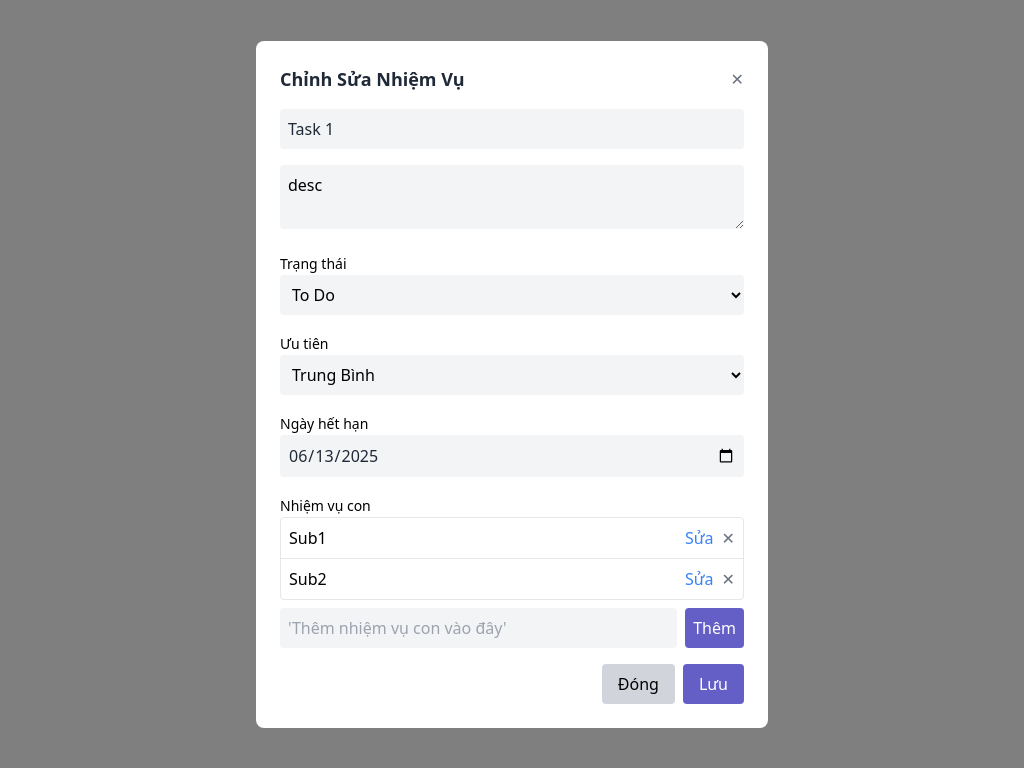
Scenario: EditTaskModal › thêm subtask mới
The image size is (1024, 768).
Type "Sub3" into the field with placeholder "'Thêm nhiệm vụ con vào đây'". click: (479, 628)
box: [280,608,677,648]
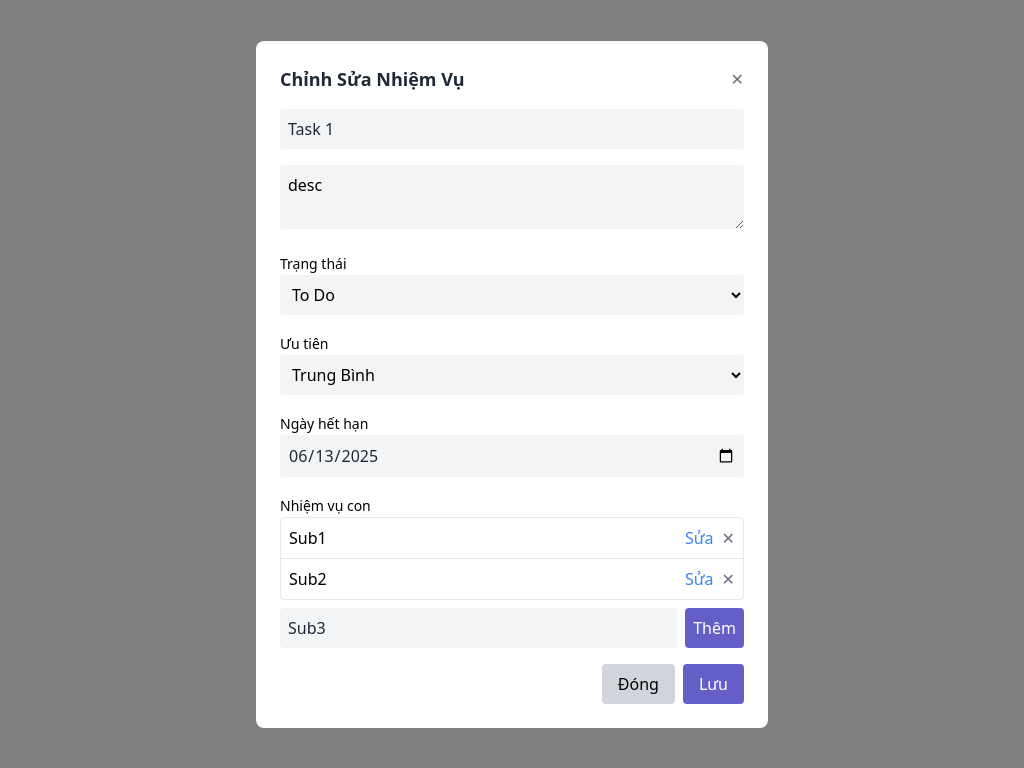
Click the button "Thêm". click: (715, 628)
box: [685,608,744,648]
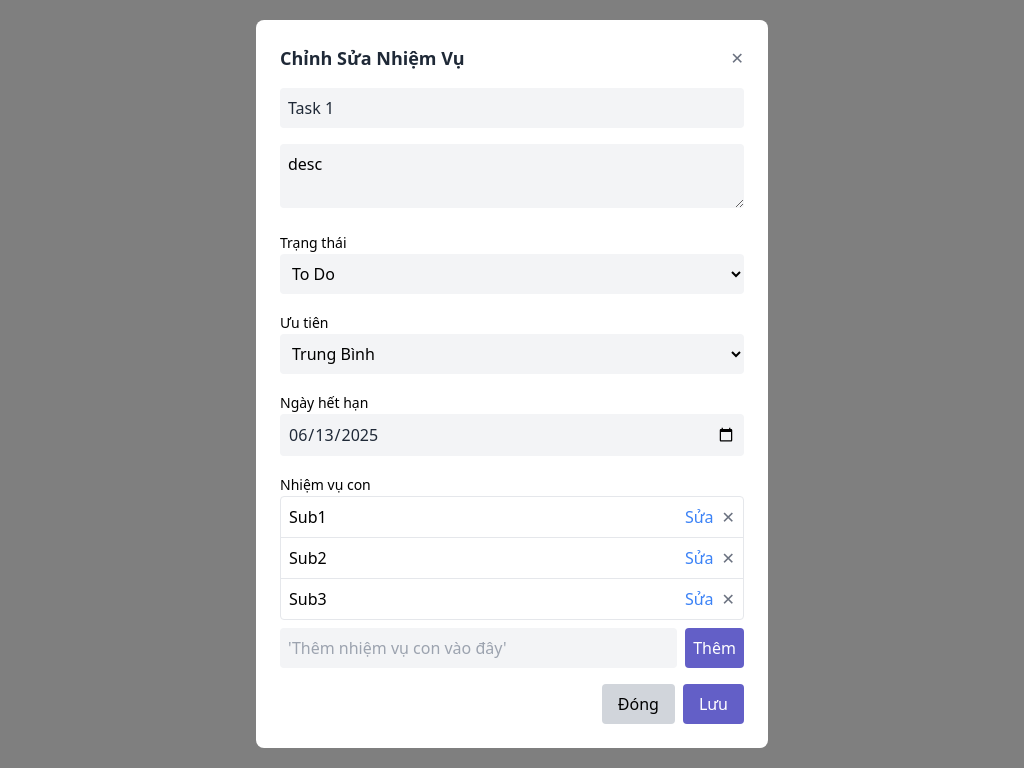
Now the text "Sub3" is shown, box [289,587,327,611]
